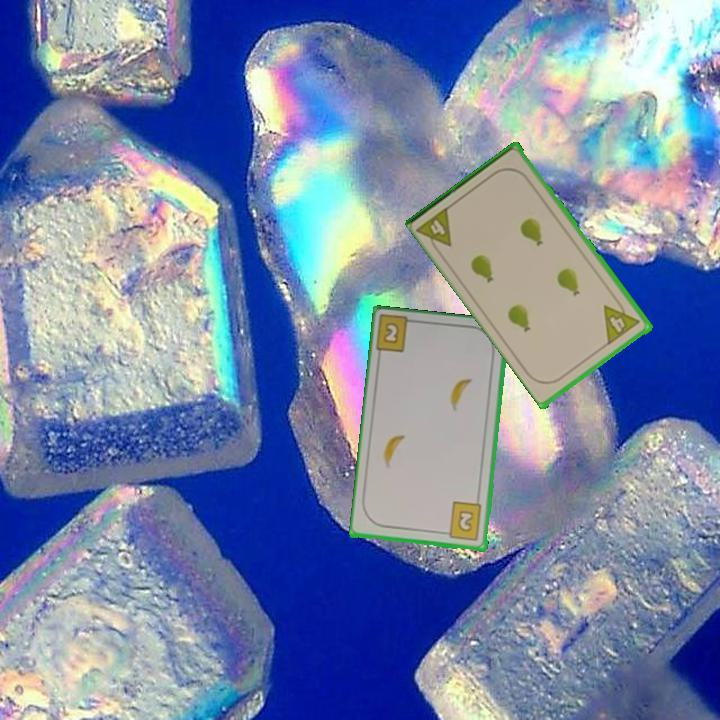2b: (440, 499, 485, 544), (380, 319, 402, 347)
4p: (600, 295, 643, 347), (414, 203, 455, 257)
